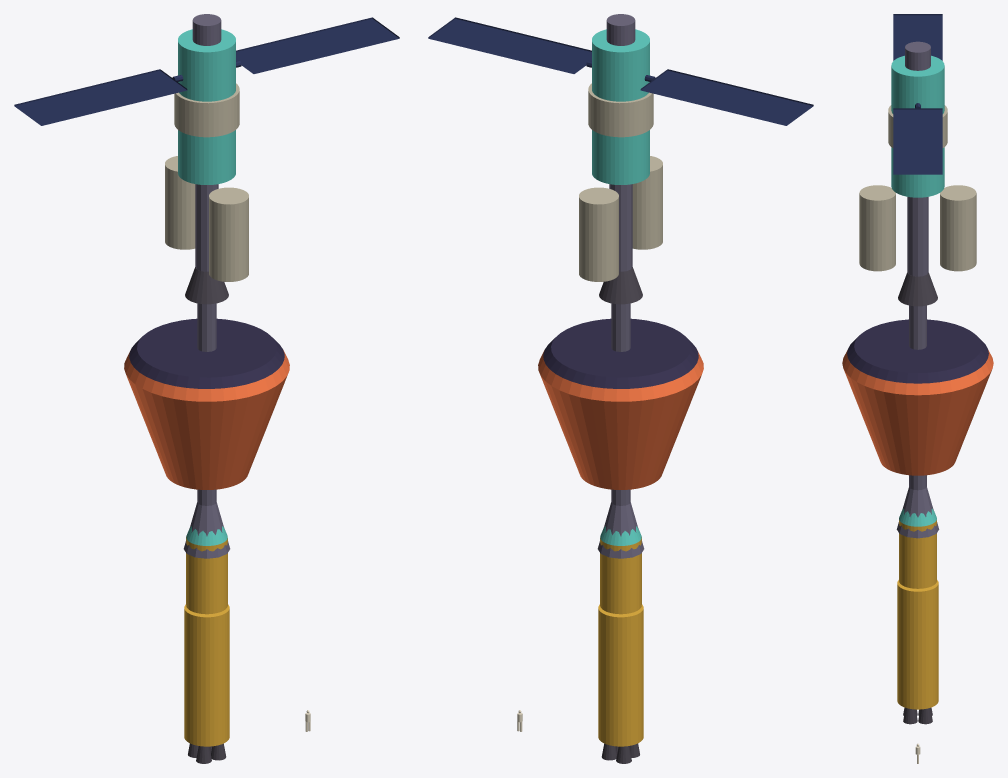
The model's file is assembled_stack.obj.
3 views of the same model, side by side, from view 1: azimuth 30°, elevation 25°; view 2: azimuth 150°, elevation 25°; view 3: azimuth 270°, elevation 25° (orthographic). The views are drawn at different scales.
Parts seen in each view (by area): view 1: aeroshell, hesperus_solar_wings, shell_backplate, hesperus_habitat, vesper_stage_1, hesperus_propellant, vesper_stage_2, hesperus_storm_shelter, hesperus_truss, spine, vesper_mount, hesperus_engine (+1 smaller); view 2: aeroshell, hesperus_solar_wings, shell_backplate, hesperus_habitat, vesper_stage_1, hesperus_propellant, vesper_stage_2, hesperus_storm_shelter, hesperus_truss, spine, vesper_mount, hesperus_engine (+1 smaller); view 3: aeroshell, shell_backplate, hesperus_propellant, hesperus_solar_wings, vesper_stage_1, hesperus_habitat, vesper_stage_2, hesperus_truss, spine, hesperus_engine, vesper_mount, hesperus_docking_node (+3 smaller).
Part boxes in pixels (x1,y1,x2,y2): aeroshell: [124, 350, 289, 489]; hesperus_solar_wings: [14, 17, 399, 125]; shell_backplate: [129, 318, 284, 388]; hesperus_habitat: [178, 29, 235, 184]; vesper_stage_1: [184, 604, 229, 746]; hesperus_propellant: [165, 156, 248, 281]; vesper_stage_2: [186, 537, 227, 614]; hesperus_storm_shelter: [174, 83, 239, 137]; hesperus_truss: [195, 184, 218, 271]; spine: [197, 303, 216, 505]; vesper_mount: [183, 502, 230, 558]; hesperus_engine: [185, 267, 228, 304]; aeroshell: [538, 350, 703, 489]; hesperus_solar_wings: [428, 17, 813, 125]; shell_backplate: [543, 318, 698, 388]; hesperus_habitat: [592, 29, 649, 184]; vesper_stage_1: [598, 604, 643, 746]; hesperus_propellant: [579, 156, 662, 281]; vesper_stage_2: [600, 537, 641, 614]; hesperus_storm_shelter: [588, 83, 653, 137]; hesperus_truss: [609, 184, 632, 271]; spine: [611, 303, 630, 505]; vesper_mount: [597, 502, 644, 558]; hesperus_engine: [599, 267, 642, 304]; aeroshell: [842, 350, 993, 475]; shell_backplate: [847, 319, 988, 383]; hesperus_propellant: [859, 185, 976, 271]; hesperus_solar_wings: [893, 14, 942, 174]; vesper_stage_1: [897, 580, 938, 709]; hesperus_habitat: [891, 55, 944, 197]; vesper_stage_2: [899, 520, 936, 588]; hesperus_truss: [907, 197, 928, 276]; spine: [909, 305, 926, 490]; hesperus_engine: [898, 272, 937, 306]; vesper_mount: [896, 487, 939, 538]; hesperus_docking_node: [905, 41, 930, 70].
Size of the model in its own units: 31.9 by 62.6 by 12.8.
